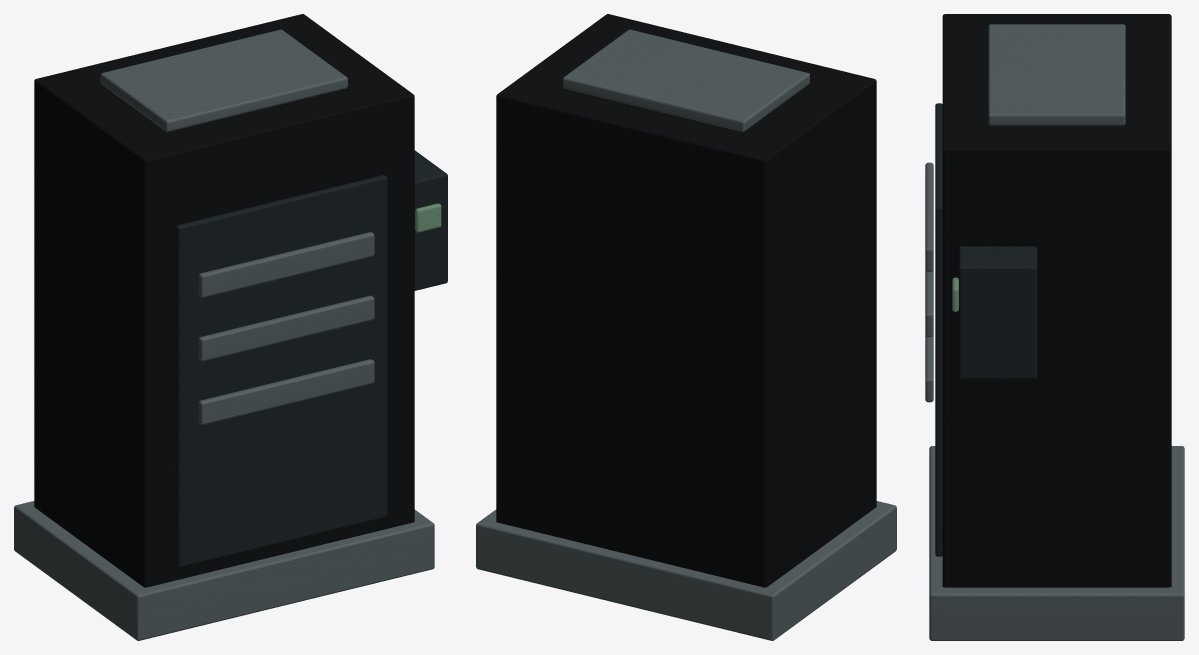
The model's file is AirScrubber.glb.
The picture shows the model from 3 angles, left to right: view 1: azimuth 30°, elevation 25°; view 2: azimuth 150°, elevation 25°; view 3: azimuth 270°, elevation 25°; orthographic projection. The views are drawn at different scales.
Visible parts, largest first — view 1: AirScrubber_Mesh; view 2: AirScrubber_Mesh; view 3: AirScrubber_Mesh.
Boxes of the visible parts, left/top/right/bottom form: AirScrubber_Mesh: left=14, top=14, right=447, bottom=640; AirScrubber_Mesh: left=476, top=14, right=896, bottom=640; AirScrubber_Mesh: left=925, top=14, right=1184, bottom=640.
Size of the model in its own units: 1.18 by 1.68 by 0.7925.
Materials: 4 (4 with a texture image).
